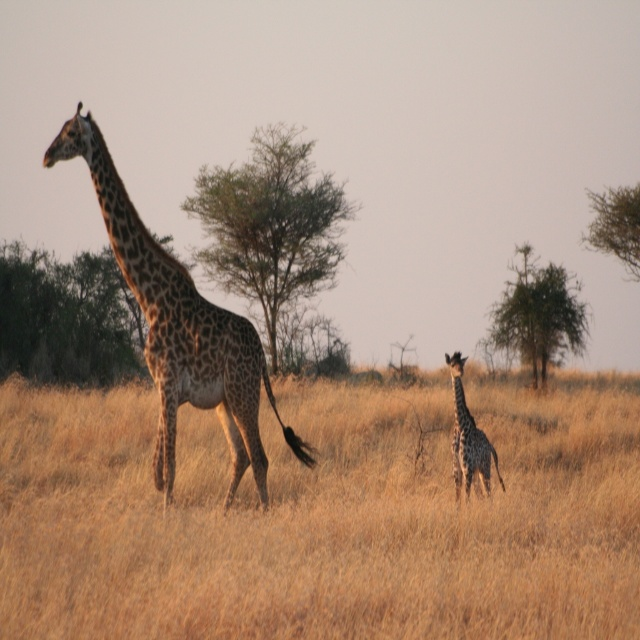Giraffe: (43, 101, 322, 512), (445, 349, 506, 503)
